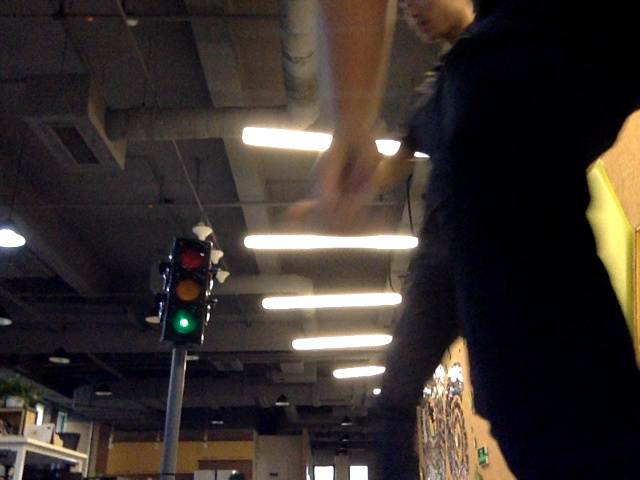green: (169, 242, 206, 341)
